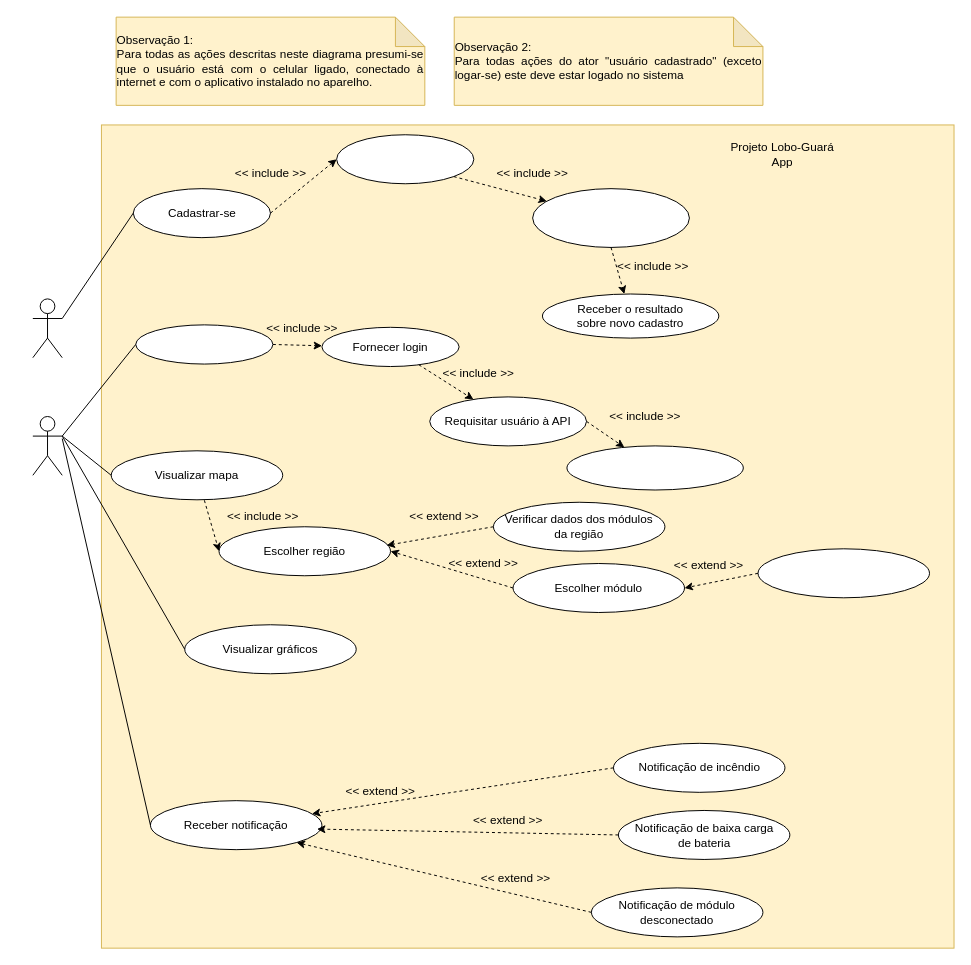
This 971x965 diagram has some shape labels left out. Here are the shapes that lost their labels. From the top down, the centre of each, then its label:
point (405, 159): Preencher formulário
point (610, 217): Requisitar novo usuário à API
point (47, 328): usuário não cadastrado
point (204, 344): Logar-se
point (47, 445): usuário cadastrado
point (654, 467): Receber o resultado sobre novo login
point (843, 573): Verificar dados do módulo
